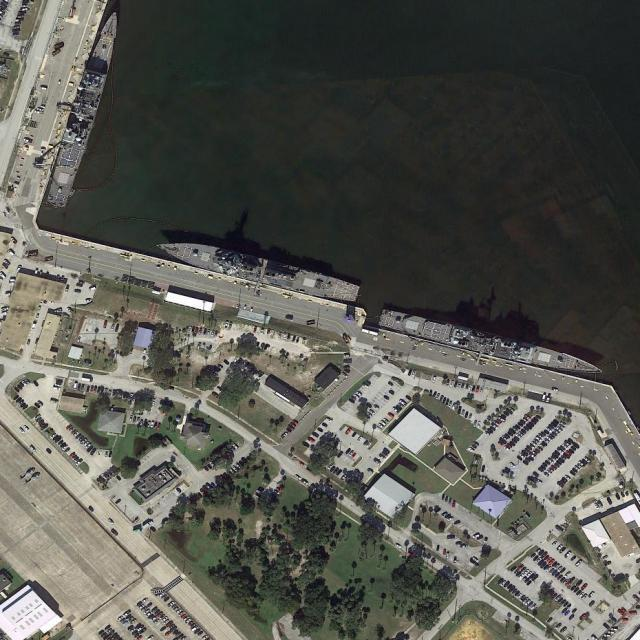Cruiser: (41, 8, 130, 209), (381, 307, 601, 380)
Destroyer: (153, 233, 361, 303)
